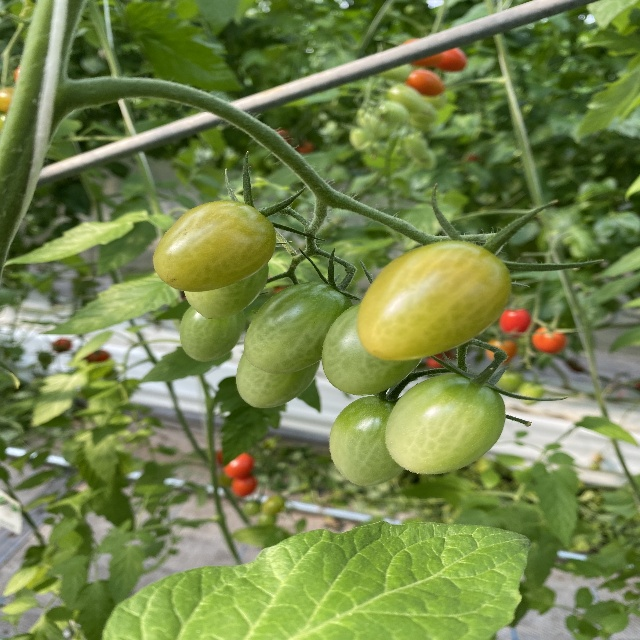l_green: (385, 373, 505, 474), (243, 281, 353, 374), (321, 301, 423, 395), (328, 395, 406, 486), (183, 261, 269, 319), (234, 353, 320, 408), (178, 304, 245, 362)
l_half_ripened: (356, 239, 513, 361), (153, 200, 276, 293)
